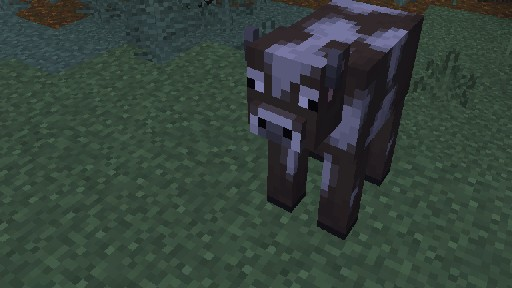cow: (243, 0, 424, 240)
